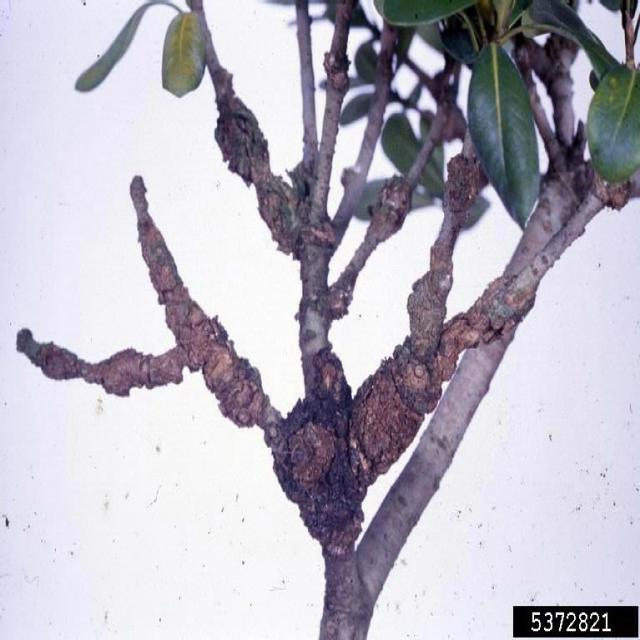Tuberculosis: (266, 151, 534, 621), (210, 59, 313, 252), (169, 281, 268, 424), (18, 329, 184, 395), (365, 176, 413, 247), (320, 265, 358, 325)
